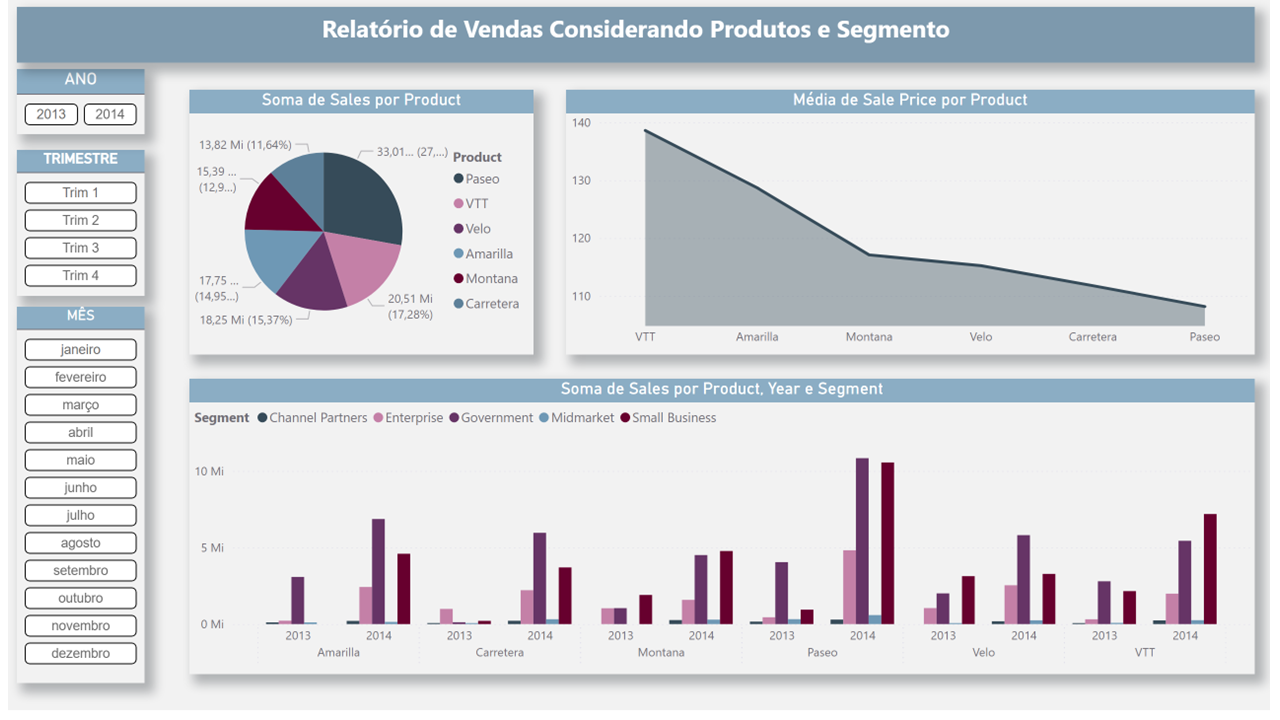

What the dashboard file says about the page in this screenshot:
{"tool":"powerbi","page":{"name":"Produto_Segmento","canvas":[1280,720],"ordinal":0},"visuals":[{"type":"pieChart","fields":{"Category":["financials.Product"],"Y":["Sum(financials. Sales)"]},"box":[183.8,91.4,349.2,268.4],"z":0},{"type":"areaChart","fields":{"Category":["financials.Product"],"Y":["Avg(financials.Sale Price)"]},"box":[566.1,91.4,698.4,268.4],"z":1000},{"type":"clusteredColumnChart","fields":{"Category":["financials.Product","financials.Year"],"Y":["Sum(financials. Sales)"],"Series":["financials.Segment"]},"box":[183.8,384.2,1080.6,299.6],"z":2000},{"type":"ChicletSlicer1448559807354","title":"TRIMESTRE","fields":{"Category":["financials.Date.Variation.Hierarquia de datas.Trimestre"]},"box":[8.8,151.7,129.4,147.8],"z":3000},{"type":"ChicletSlicer1448559807354","title":"MÊS","fields":{"Category":["financials.Date.Variation.Hierarquia de datas.Mês"]},"box":[8.8,311.2,129.4,381.3],"z":4000},{"type":"ChicletSlicer1448559807354","title":"ANO","fields":{"Category":["financials.Date.Variation.Hierarquia de datas.Ano"]},"box":[8.8,70,129.4,66.1],"z":5000},{"type":"textbox","box":[8.8,6.8,1255.7,56.4],"z":6000}]}

Visuals, with their boxes in screenshot pixels (x1, y1, x2, y2), scaled from the page's 1280x720 canvas onto the 1280x720 screenshot:
pieChart - financials.Product x Sum(financials. Sales): (x1=184, y1=91, x2=533, y2=360)
areaChart - financials.Product x Avg(financials.Sale Price): (x1=566, y1=91, x2=1264, y2=360)
clusteredColumnChart - financials.Product x financials.Year: (x1=184, y1=384, x2=1264, y2=684)
"TRIMESTRE" ChicletSlicer1448559807354: (x1=9, y1=152, x2=138, y2=300)
"MÊS" ChicletSlicer1448559807354: (x1=9, y1=311, x2=138, y2=692)
"ANO" ChicletSlicer1448559807354: (x1=9, y1=70, x2=138, y2=136)
textbox: (x1=9, y1=7, x2=1264, y2=63)
